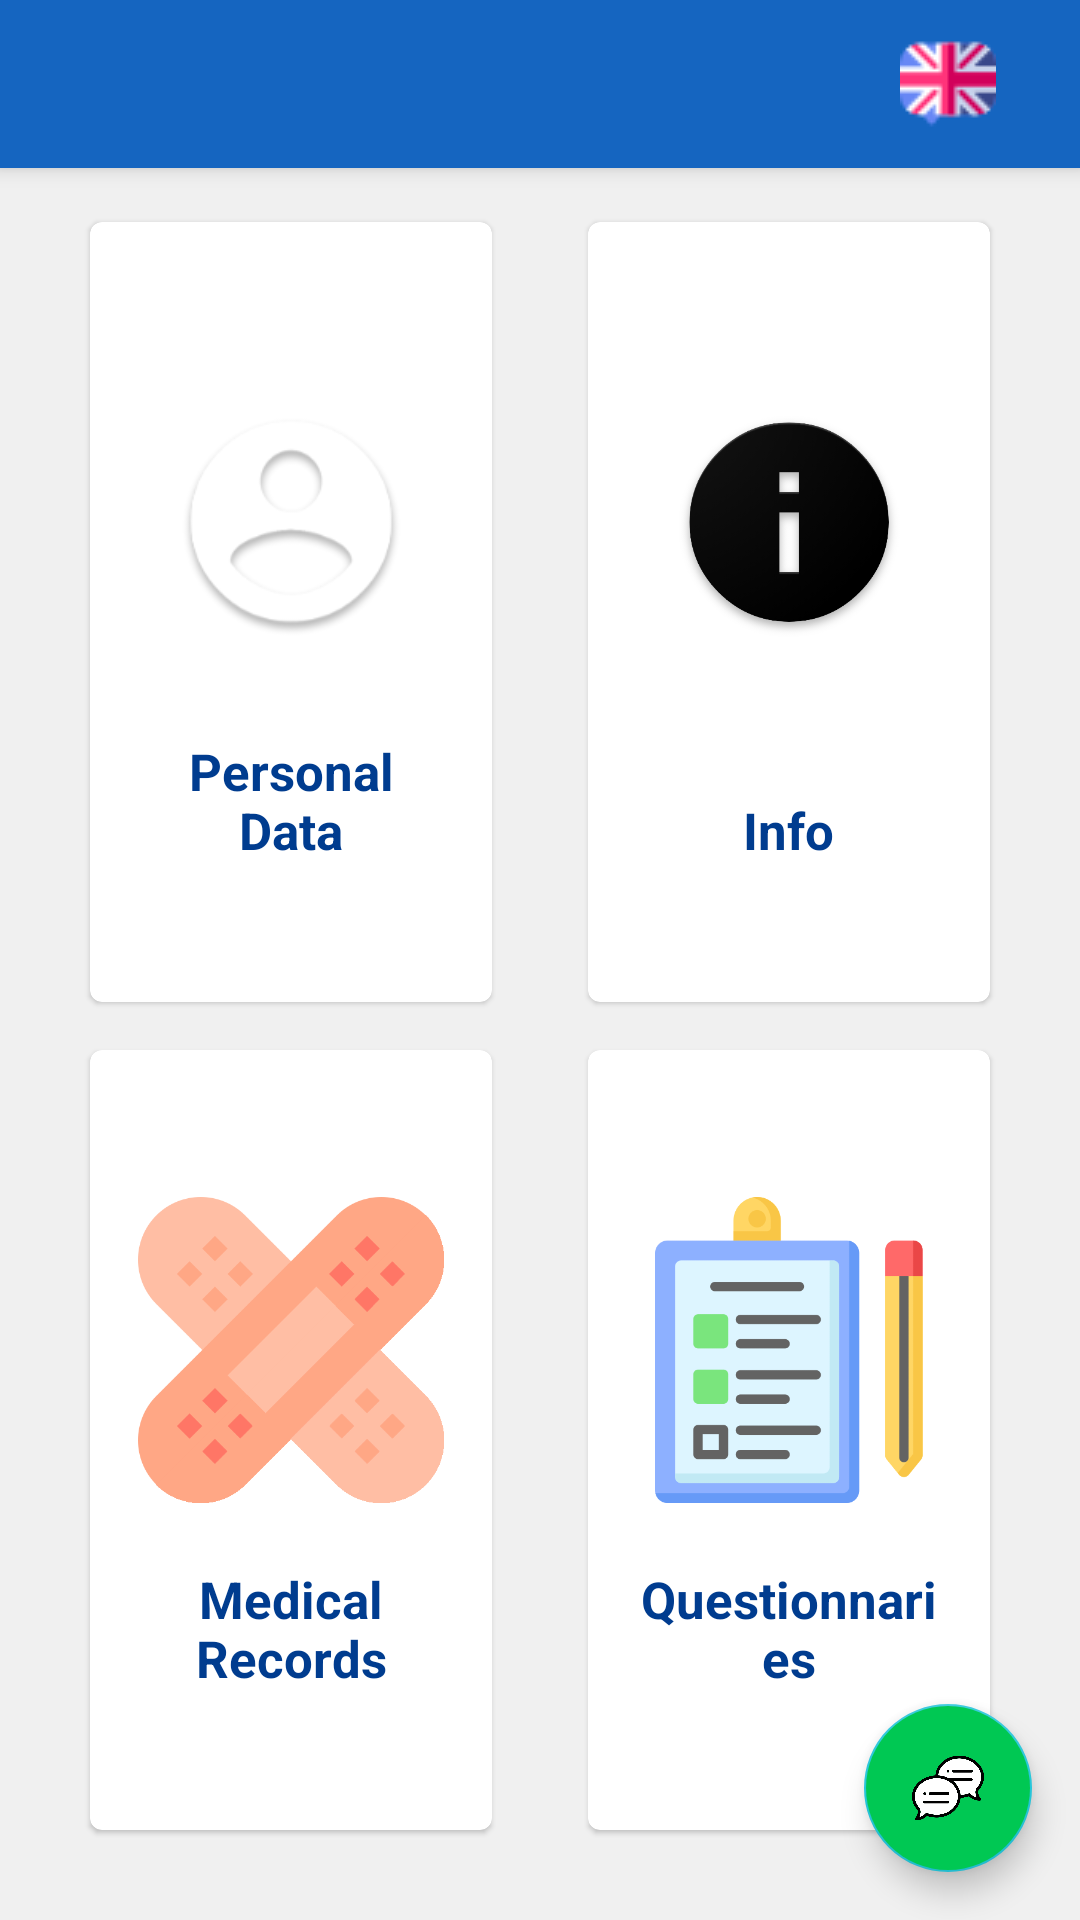

Icons on this 1080 x 1920 Android screen, each with the point to tap as [x,y]:
lang: [948,83]
messenger: [948,1788]
